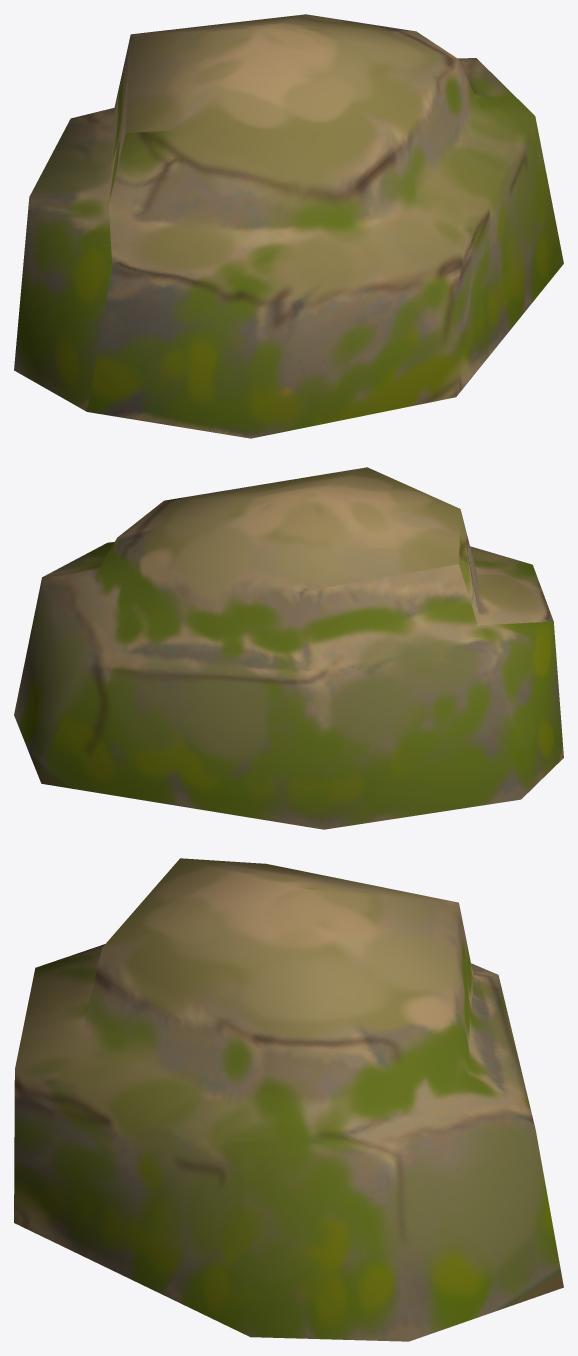
File: sences_changbanpo_shitou002.FBX
3 views of the same model, one above another, from view 1: azimuth 30°, elevation 25°; view 2: azimuth 150°, elevation 25°; view 3: azimuth 270°, elevation 25° (orthographic). The views are drawn at different scales.
Visible parts, largest first — view 1: sences_changbanpo_shitou002; view 2: sences_changbanpo_shitou002; view 3: sences_changbanpo_shitou002.
Part boxes in pixels (box(x1,y1,x2,y2)): sences_changbanpo_shitou002: box(14, 14, 563, 438); sences_changbanpo_shitou002: box(14, 467, 563, 829); sences_changbanpo_shitou002: box(14, 858, 563, 1341).
Bounding box in the file's own units: 2.39 × 1.99 × 1.21.
